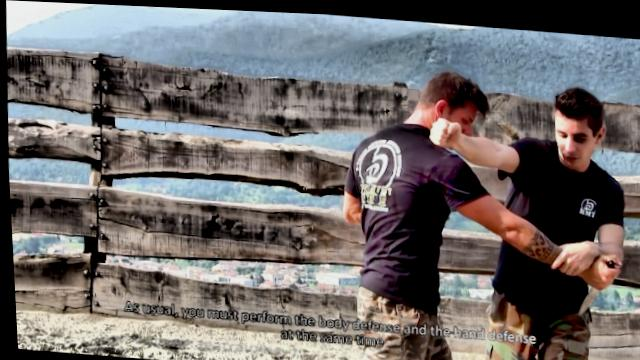knife: (569, 245, 623, 315)
